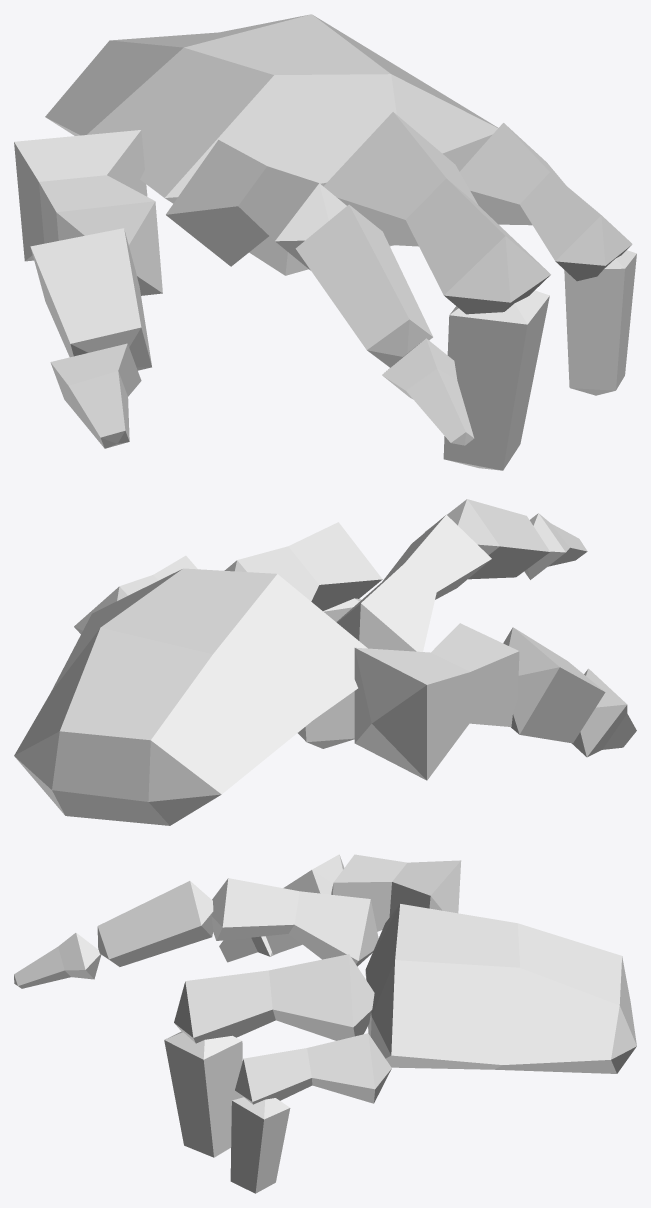
File: Zeolite_acc_01.FBX
3 views of the same model, one above another, from view 1: azimuth 30°, elevation 25°; view 2: azimuth 150°, elevation 25°; view 3: azimuth 270°, elevation 25° (orthographic). The views are drawn at different scales.
Visible parts, largest first — view 1: Zeolite_acc_01; view 2: Zeolite_acc_01; view 3: Zeolite_acc_01.
Part boxes in pixels (box(x1,y1,x2,y2)): Zeolite_acc_01: box(14, 14, 636, 470); Zeolite_acc_01: box(14, 499, 636, 825); Zeolite_acc_01: box(14, 854, 636, 1193).
Bounding box in the file's own units: 46.45 × 24.15 × 60.52.
